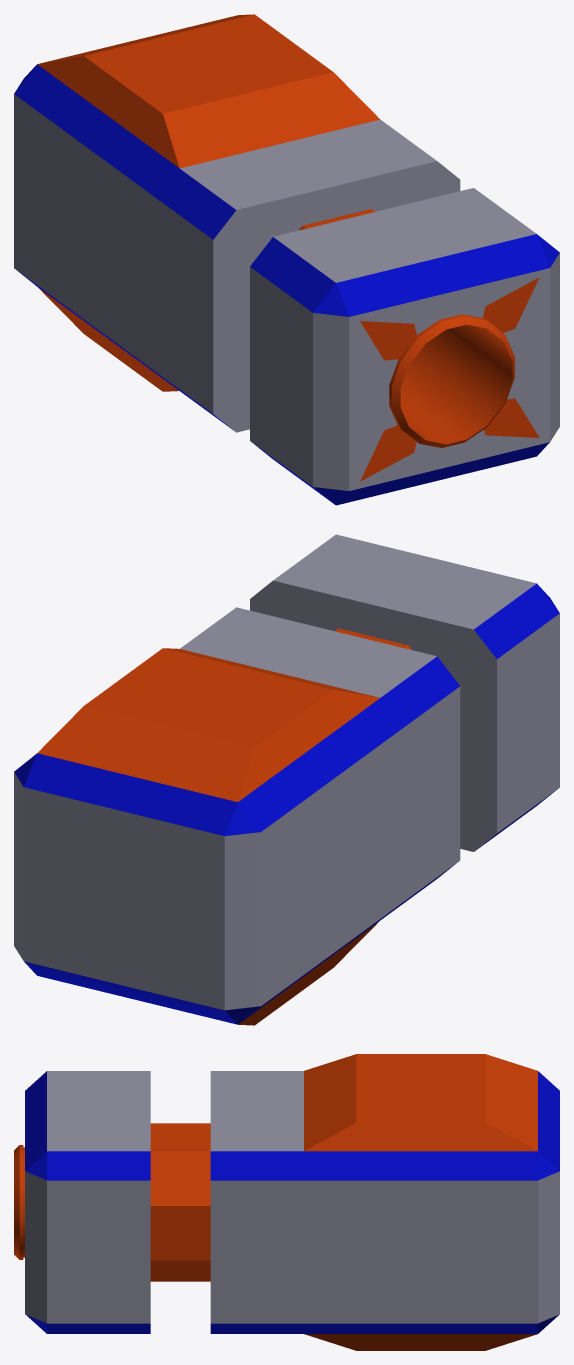
File: basic_barrel.FBX
3 renders of one model, top to bottom at view 1: azimuth 30°, elevation 25°; view 2: azimuth 150°, elevation 25°; view 3: azimuth 270°, elevation 25°, orthographic. The views are drawn at different scales.
Visible parts, largest first — view 1: ChamferBox005; view 2: ChamferBox005; view 3: ChamferBox005.
Boxes of the visible parts, x1=… form: ChamferBox005: x1=14, y1=14, x2=559, y2=505; ChamferBox005: x1=14, y1=534, x2=559, y2=1025; ChamferBox005: x1=14, y1=1054, x2=559, y2=1350.
Size of the model in its own units: 41.75 by 44.88 by 97.3.
